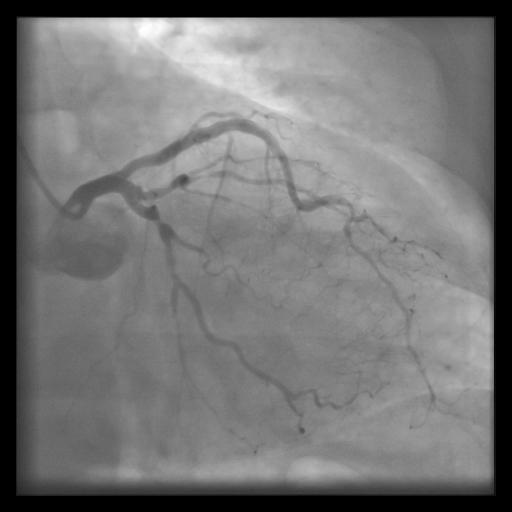Stenosis: (143, 205, 169, 229)
